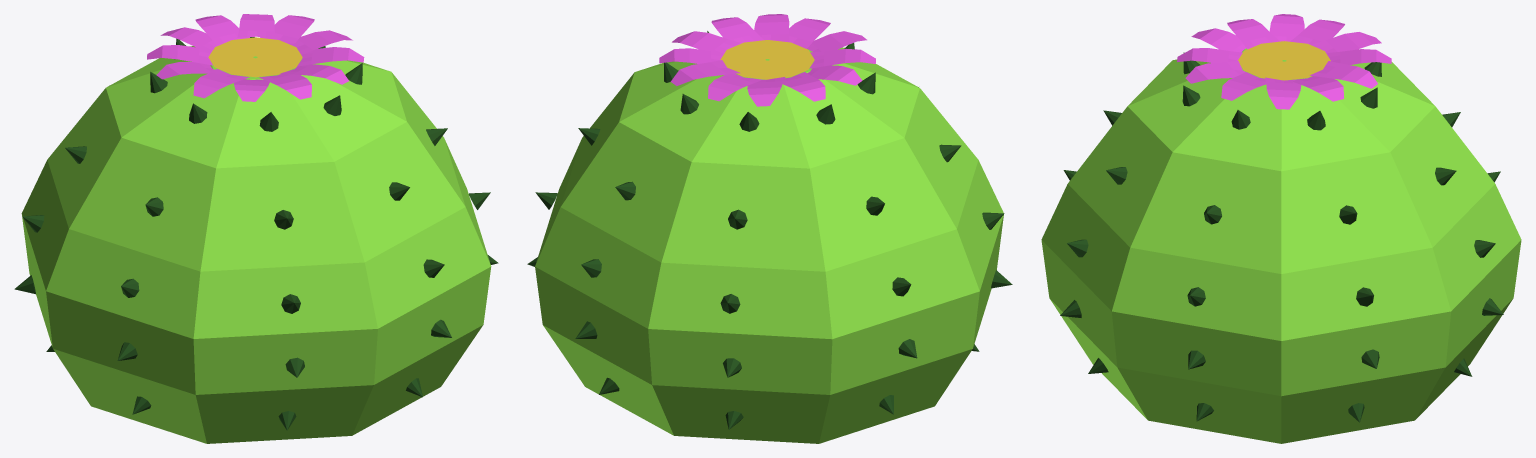
Rendered from Cactus_ball1_flower1.fbx.
3 renders of one model, left to right at view 1: azimuth 30°, elevation 25°; view 2: azimuth 150°, elevation 25°; view 3: azimuth 270°, elevation 25°, orthographic.
Visible parts, largest first — view 1: Cactus; view 2: Cactus; view 3: Cactus.
Boxes of the visible parts, box(x1,y1,x2,y2) form: Cactus: box(14, 14, 498, 443); Cactus: box(527, 14, 1012, 443); Cactus: box(1041, 14, 1521, 443).
Size of the model in its own units: 37.88 by 29.74 by 37.88.
